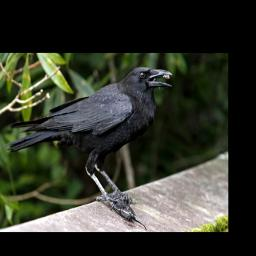Crow: (6, 66, 173, 211)
